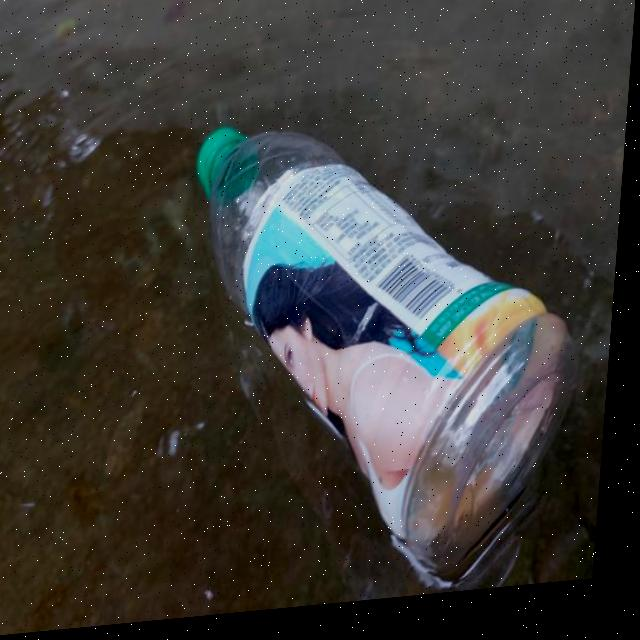waterbottle: (163, 89, 604, 607)
